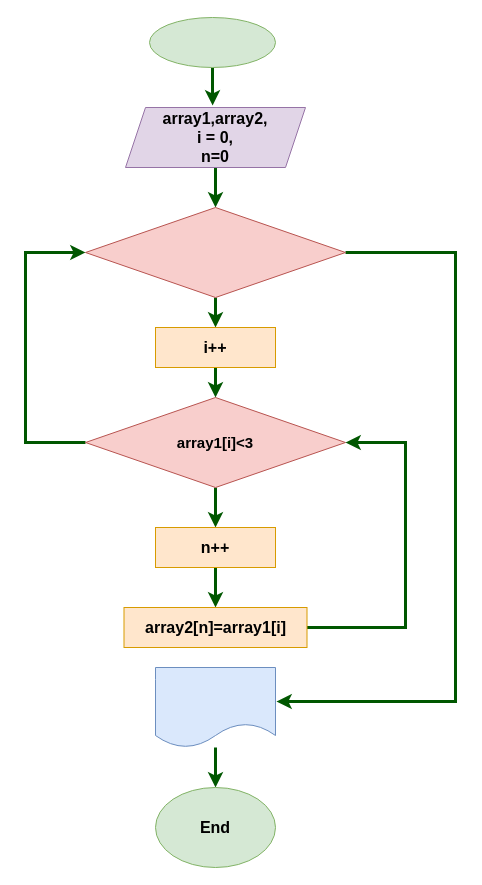
This 482x885 diagram has some shape labels left out. Each missing label, with the box of its shape:
i < array1.Length: (84, 206, 346, 298)
print array2: (154, 666, 276, 748)
Start: (148, 16, 276, 68)
